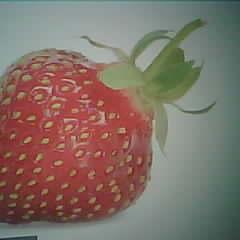straw-ripe: (0, 48, 159, 223)
